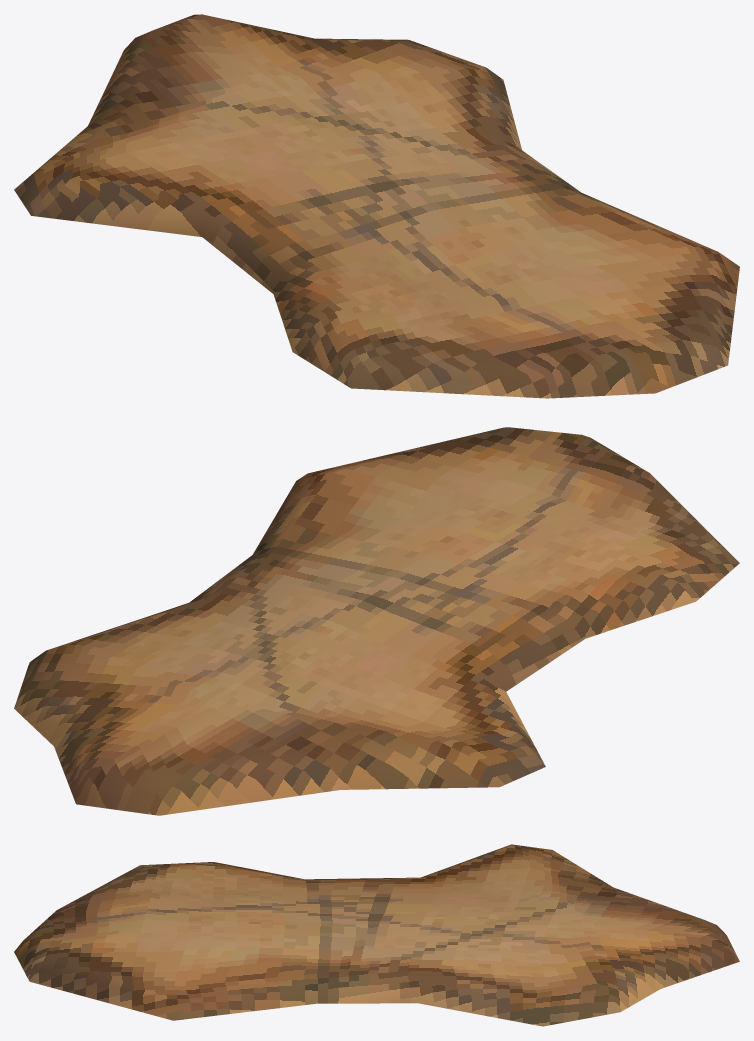
Rendered from con_gen_organic_hide_leather_l2.fbx.
The picture shows the model from 3 angles, top to bottom: view 1: azimuth 30°, elevation 25°; view 2: azimuth 150°, elevation 25°; view 3: azimuth 270°, elevation 25°; orthographic projection. The views are drawn at different scales.
Parts seen in each view (by area): view 1: mesh_node; view 2: mesh_node; view 3: mesh_node.
Boxes of the visible parts, box(x1,y1,x2,y2) form: mesh_node: box(14, 14, 739, 398); mesh_node: box(14, 427, 739, 815); mesh_node: box(14, 844, 739, 1026).
Bounding box in the file's own units: 1.14 × 0.0774 × 1.97.
Materials: 1 (1 with a texture image).
